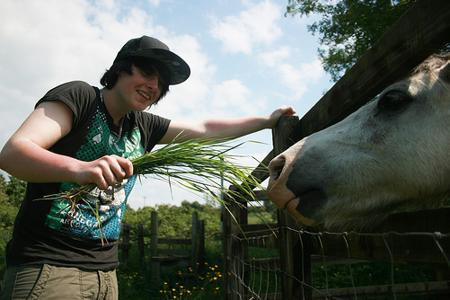person: (2, 33, 290, 300)
